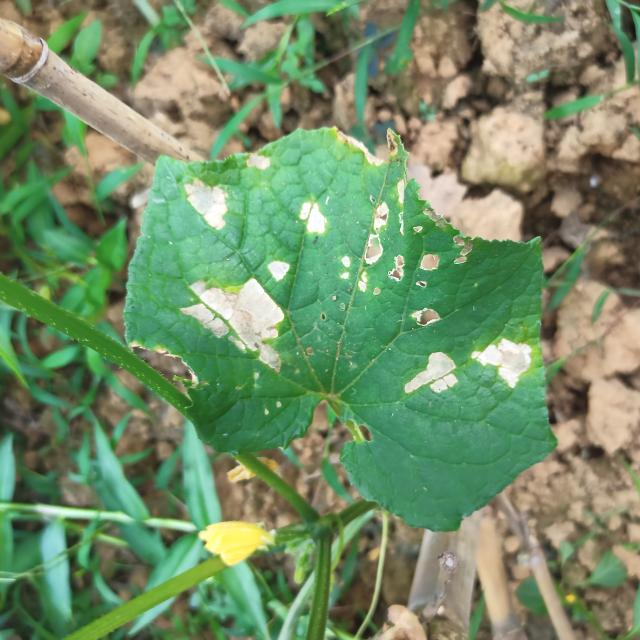disease_cucumber: (178, 175, 330, 374), (338, 200, 469, 331), (394, 325, 534, 409)
